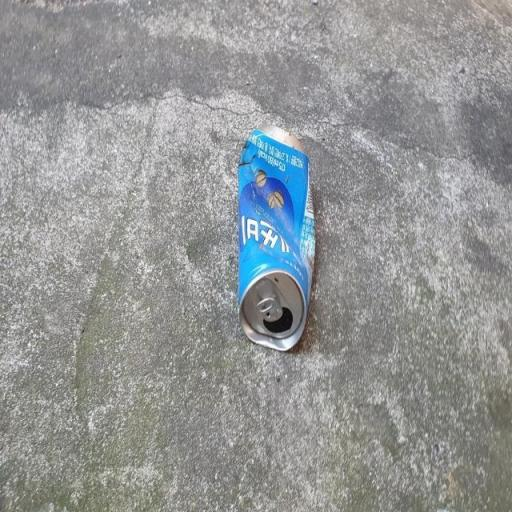metal: (222, 112, 332, 374)
